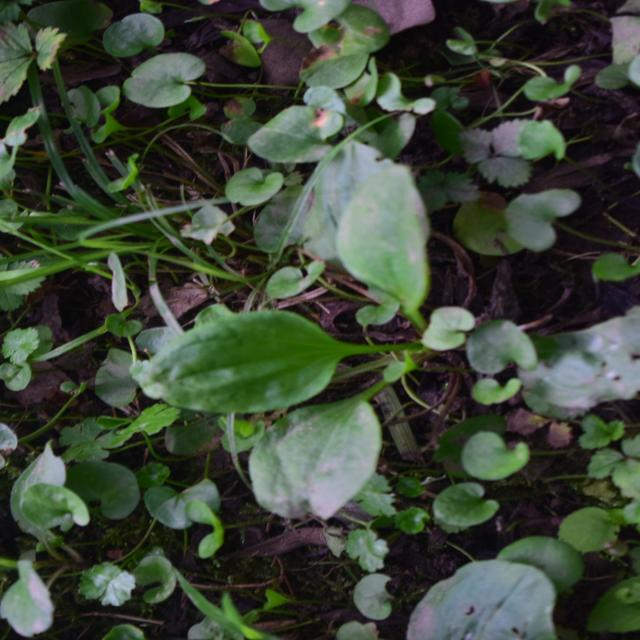plantain: (93, 136, 467, 494)
